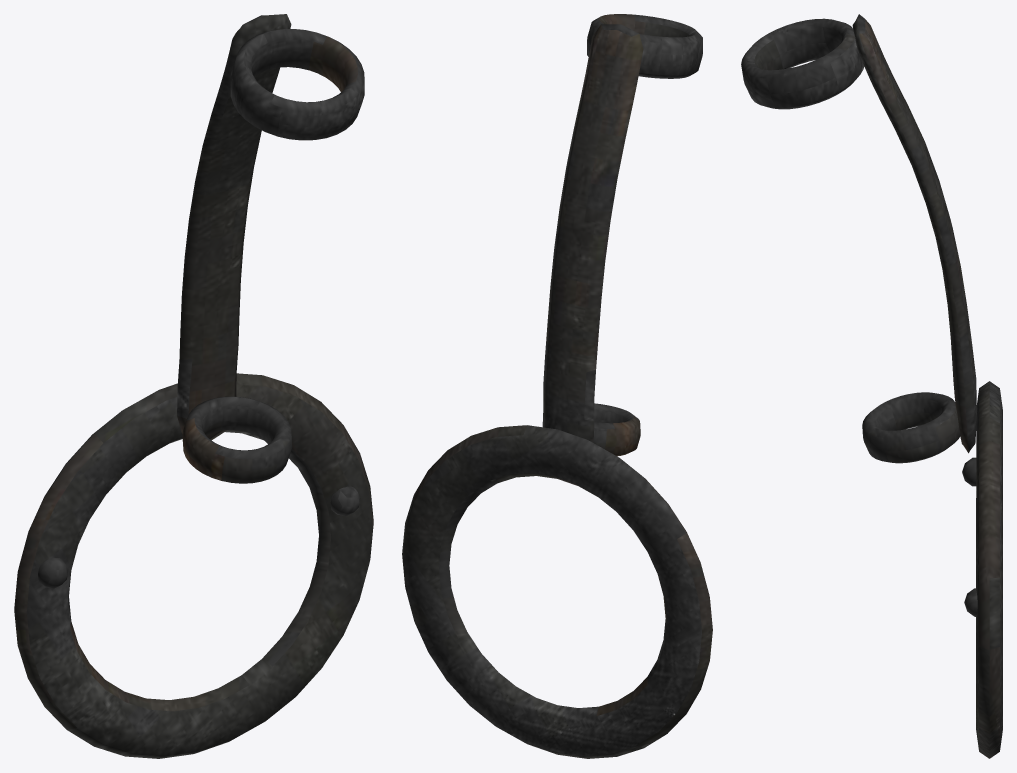
The model's file is torchholder.fbx.
The picture shows the model from 3 angles, left to right: view 1: azimuth 30°, elevation 25°; view 2: azimuth 150°, elevation 25°; view 3: azimuth 270°, elevation 25°; orthographic projection. The views are drawn at different scales.
Parts seen in each view (by area): view 1: holder; view 2: holder; view 3: holder.
Part boxes in pixels (box(x1,y1,x2,y2)): holder: box(14, 14, 373, 758); holder: box(402, 14, 712, 758); holder: box(741, 14, 1002, 758).
Size of the model in its own units: 0.3613 by 0.7603 by 0.25.
